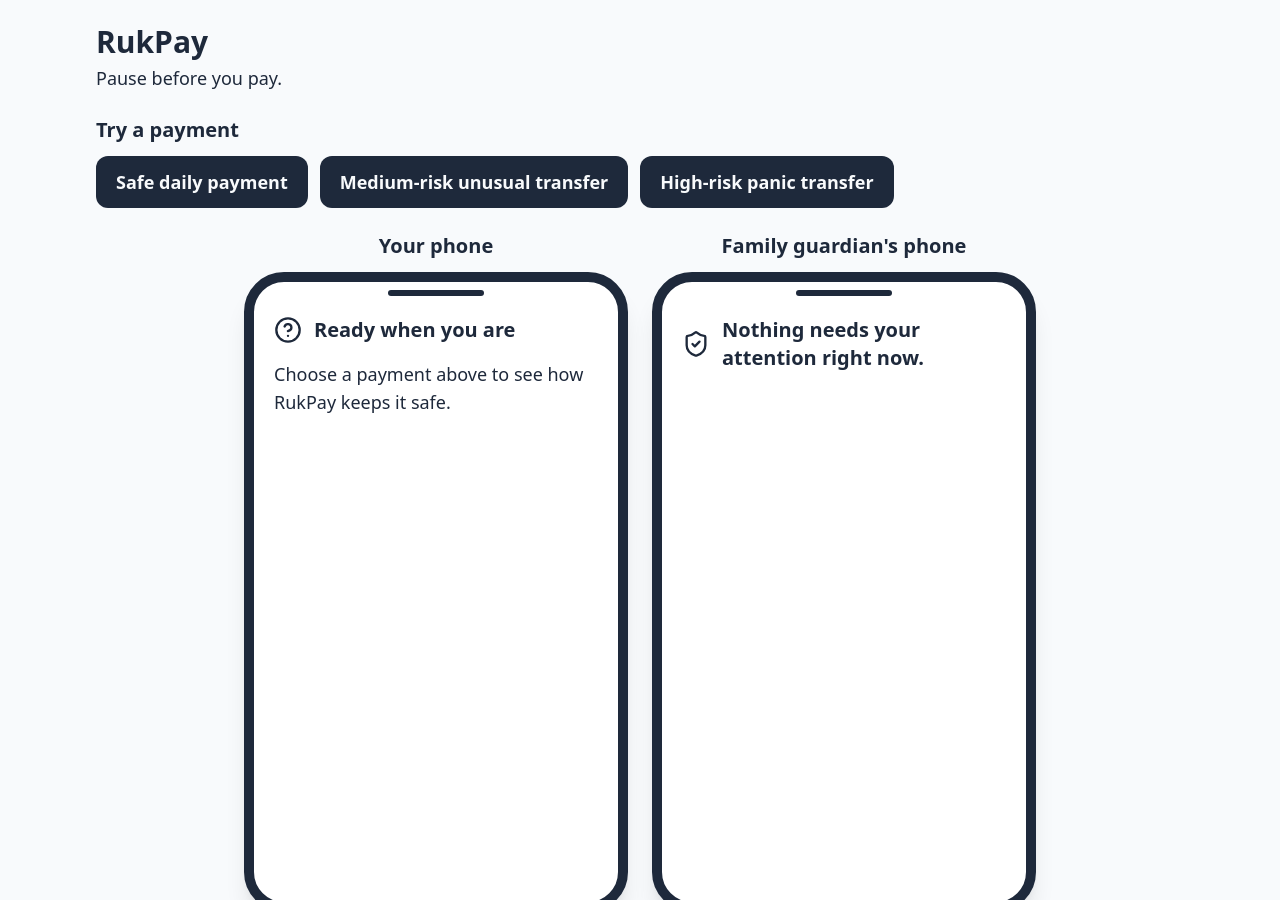
Test case: App presets › the safe daily payment › sends the safe request and shows the payment sent
Click the button "Safe daily payment" at (202, 182), box [96, 156, 308, 208]
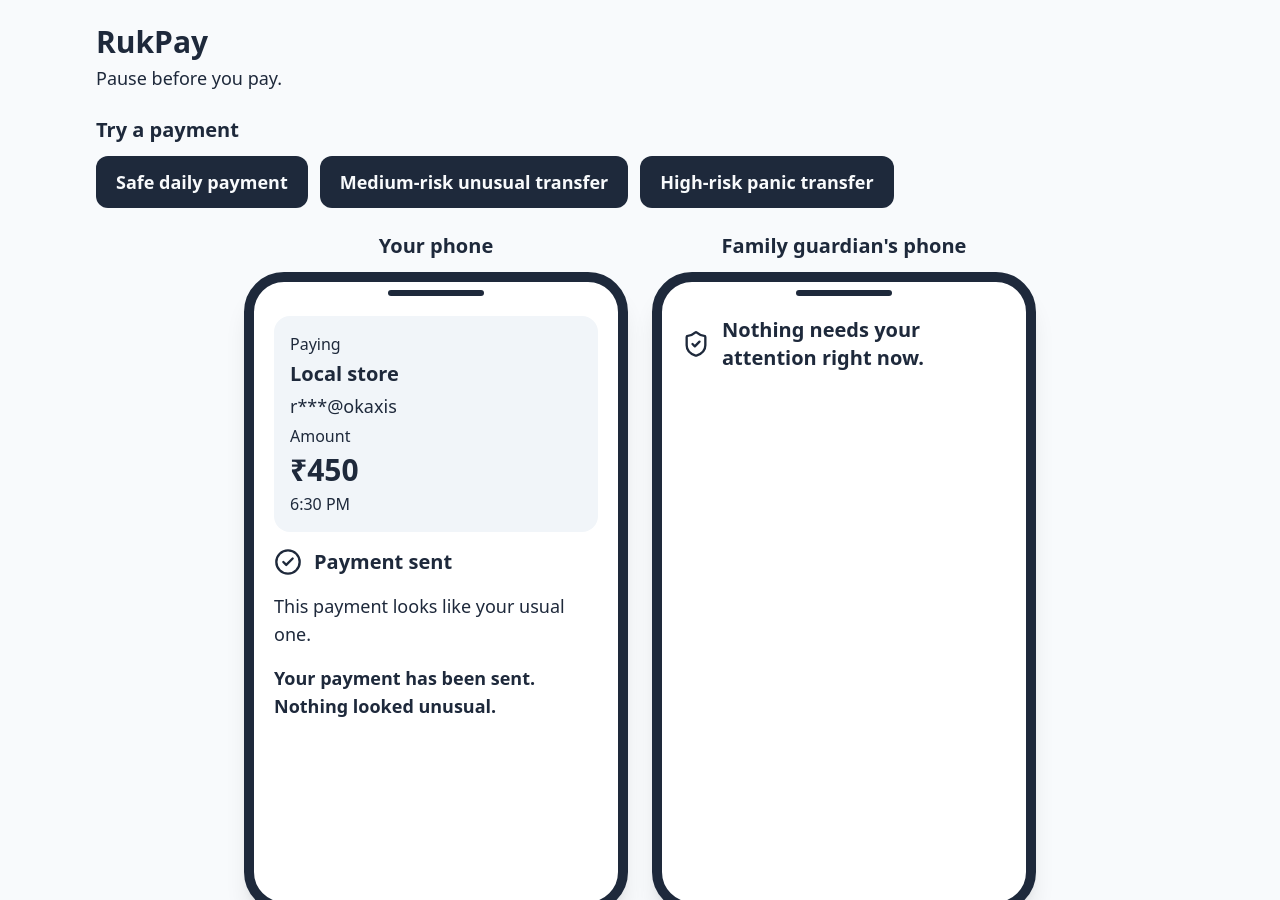
expect the text "Payment sent" is shown: met, box [314, 548, 452, 576]
expect the text "Your payment has been sent. Nothing looked unusual." is shown: met, box [274, 666, 535, 718]
expect the text "This payment looks like your usual one." is shown: met, box [274, 592, 598, 648]
